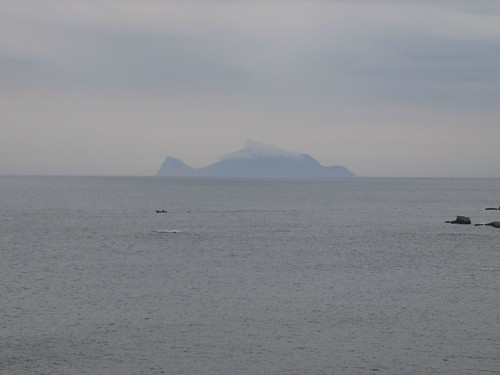turtleIslandLeft: (153, 145, 359, 182)
